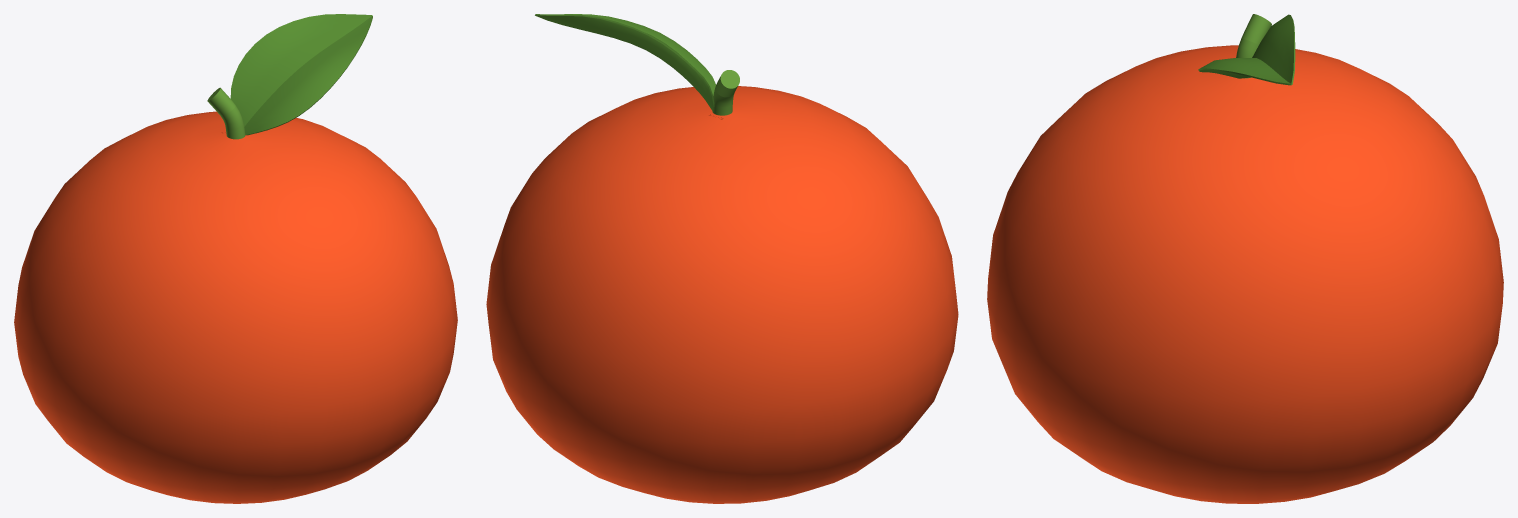
File: tangerine.glb
3 views of the same model, side by side, from view 1: azimuth 30°, elevation 25°; view 2: azimuth 150°, elevation 25°; view 3: azimuth 270°, elevation 25° (orthographic). The views are drawn at different scales.
Visible parts, largest first — view 1: Sphere.006; view 2: Sphere.006; view 3: Sphere.006.
Part boxes in pixels (<box>): Sphere.006: <box>14,14,457,503</box>; Sphere.006: <box>486,14,958,503</box>; Sphere.006: <box>987,14,1503,503</box>.
Size of the model in its own units: 2.01 by 2.1 by 2.01.
1 material, 1 textured.
